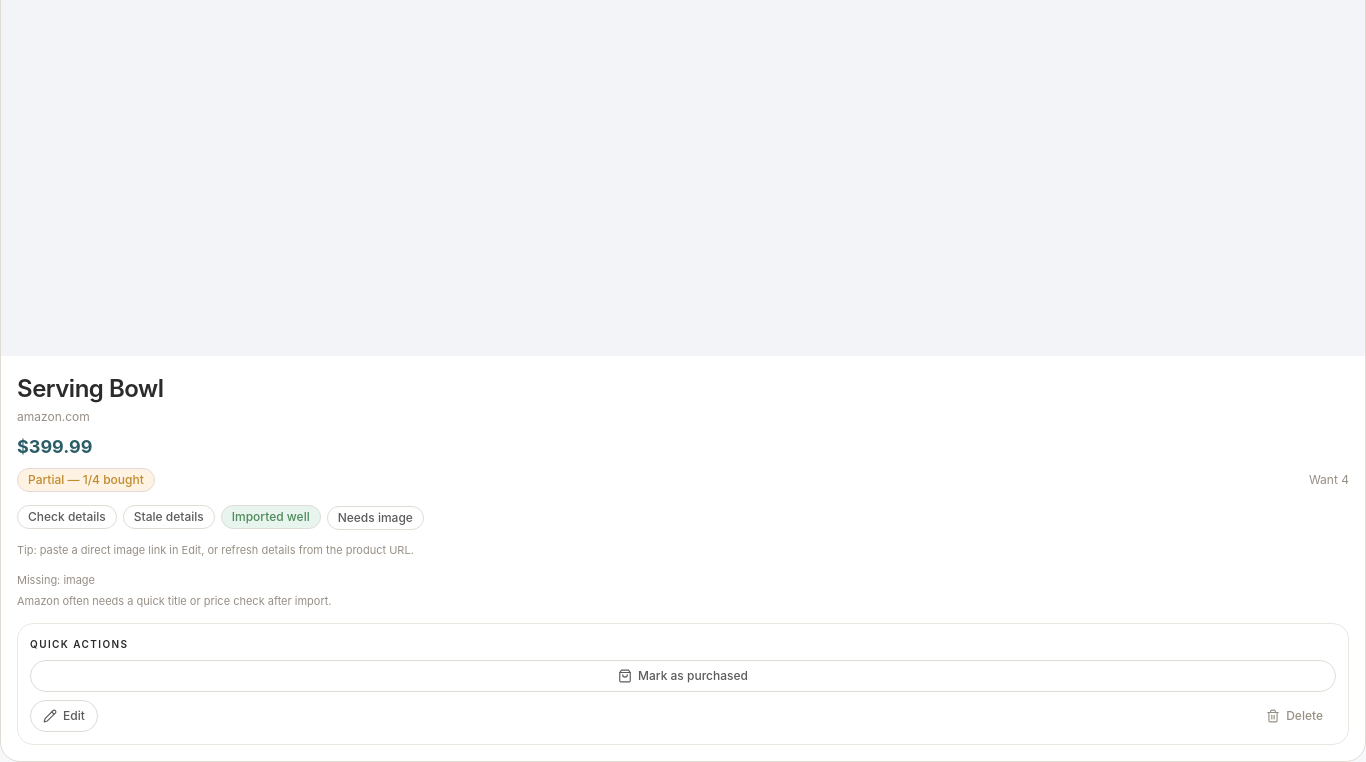
Test case: RegistryItemCard › resets owner purchase confirmation state when a different registry item is loaded into the same card
The width and height of the screenshot is (1366, 762).
Earlier steps of the test are not shown.
(page scrolled)
Click the button "Mark as purchased": x=683, y=676 [30, 660, 1336, 692]
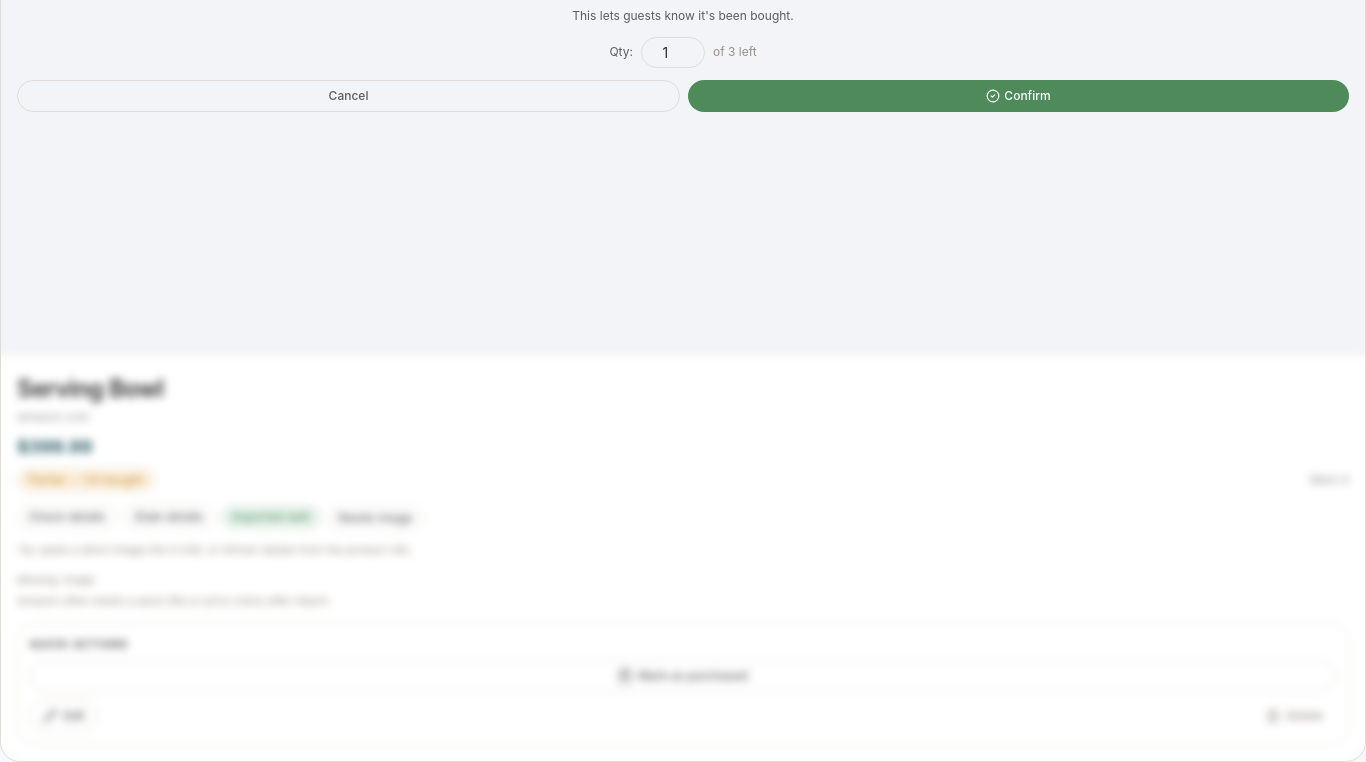
Result: the number field holds "1" at [641, 37, 705, 68]
Result: the text "of 3 left" is shown at [713, 43, 757, 61]
